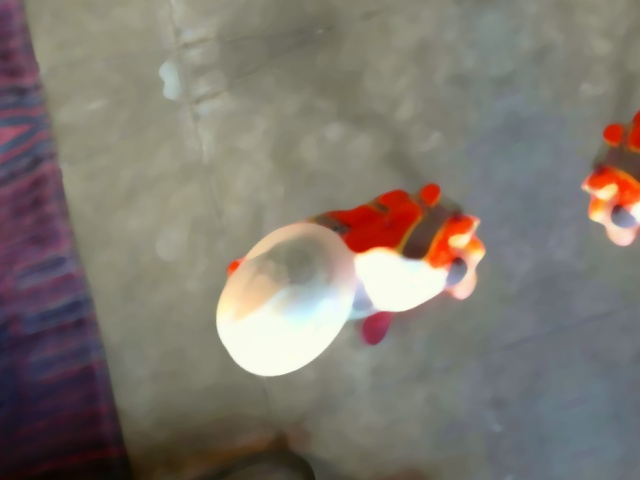eight: (260, 236, 319, 294)
